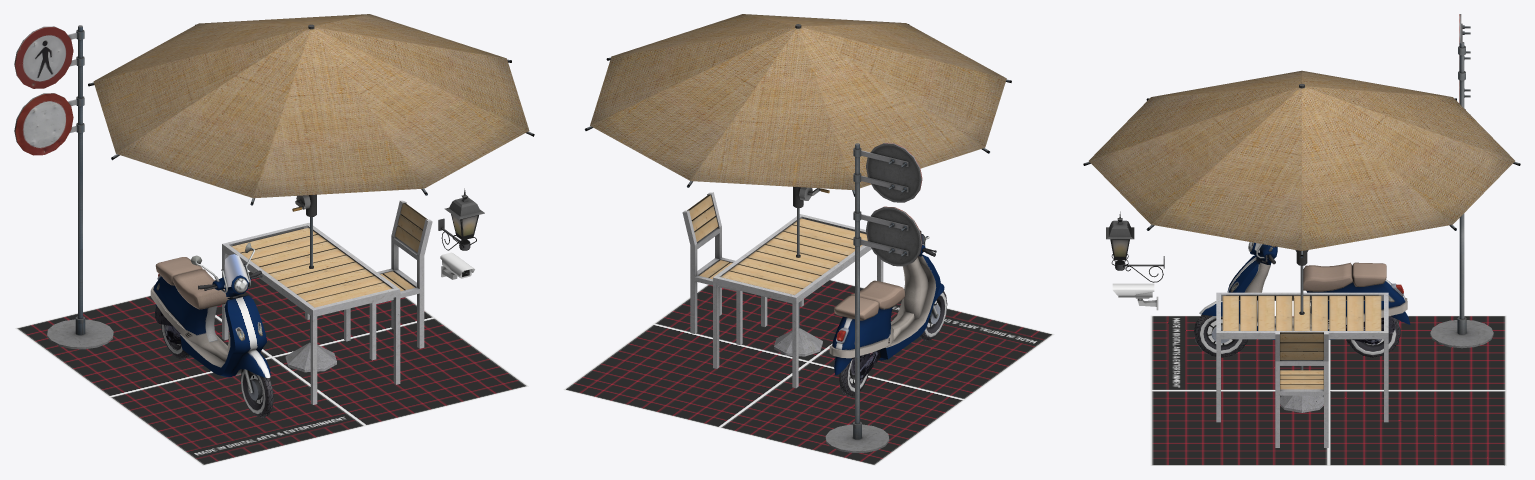
File: 5 Simple Props Export.fbx
3 renders of one model, left to right at view 1: azimuth 30°, elevation 25°; view 2: azimuth 150°, elevation 25°; view 3: azimuth 270°, elevation 25°, orthographic. The views are drawn at different scales.
Visible parts, largest first — view 1: Umbrela_Prop, floor_grid, Vespa_Prop, Table_Prop, Sign_Prop, Chair_Prop, Wall Lamp_Prop, Camera_Prop; view 2: Umbrela_Prop, floor_grid, Table_Prop, Vespa_Prop, Sign_Prop, Chair_Prop; view 3: Umbrela_Prop, floor_grid, Table_Prop, Vespa_Prop, Chair_Prop, Sign_Prop, Wall Lamp_Prop, Camera_Prop.
Part boxes in pixels (left/top/right/bottom): Umbrela_Prop: left=88, top=14, right=534, bottom=372; floor_grid: left=15, top=271, right=528, bottom=465; Vespa_Prop: left=150, top=242, right=273, bottom=418; Table_Prop: left=222, top=223, right=400, bottom=404; Sign_Prop: left=14, top=25, right=113, bottom=349; Chair_Prop: left=344, top=200, right=432, bottom=360; Wall Lamp_Prop: left=438, top=188, right=484, bottom=250; Camera_Prop: left=440, top=252, right=474, bottom=279; Umbrela_Prop: left=584, top=14, right=1011, bottom=356; floor_grid: left=563, top=279, right=1054, bottom=465; Table_Prop: left=713, top=214, right=883, bottom=388; Vespa_Prop: left=829, top=230, right=947, bottom=396; Sign_Prop: left=825, top=143, right=922, bottom=452; Chair_Prop: left=682, top=192, right=767, bottom=344; Umbrela_Prop: left=1083, top=70, right=1520, bottom=412; floor_grid: left=1150, top=315, right=1506, bottom=465; Table_Prop: left=1216, top=292, right=1388, bottom=422; Vespa_Prop: left=1193, top=242, right=1410, bottom=357; Chair_Prop: left=1275, top=331, right=1328, bottom=447; Sign_Prop: left=1430, top=14, right=1493, bottom=348; Wall Lamp_Prop: left=1106, top=211, right=1164, bottom=282; Camera_Prop: left=1112, top=283, right=1158, bottom=310.
Bounding box in the file's own units: 253 × 197 × 245.
Materials: 8 (8 with a texture image).
